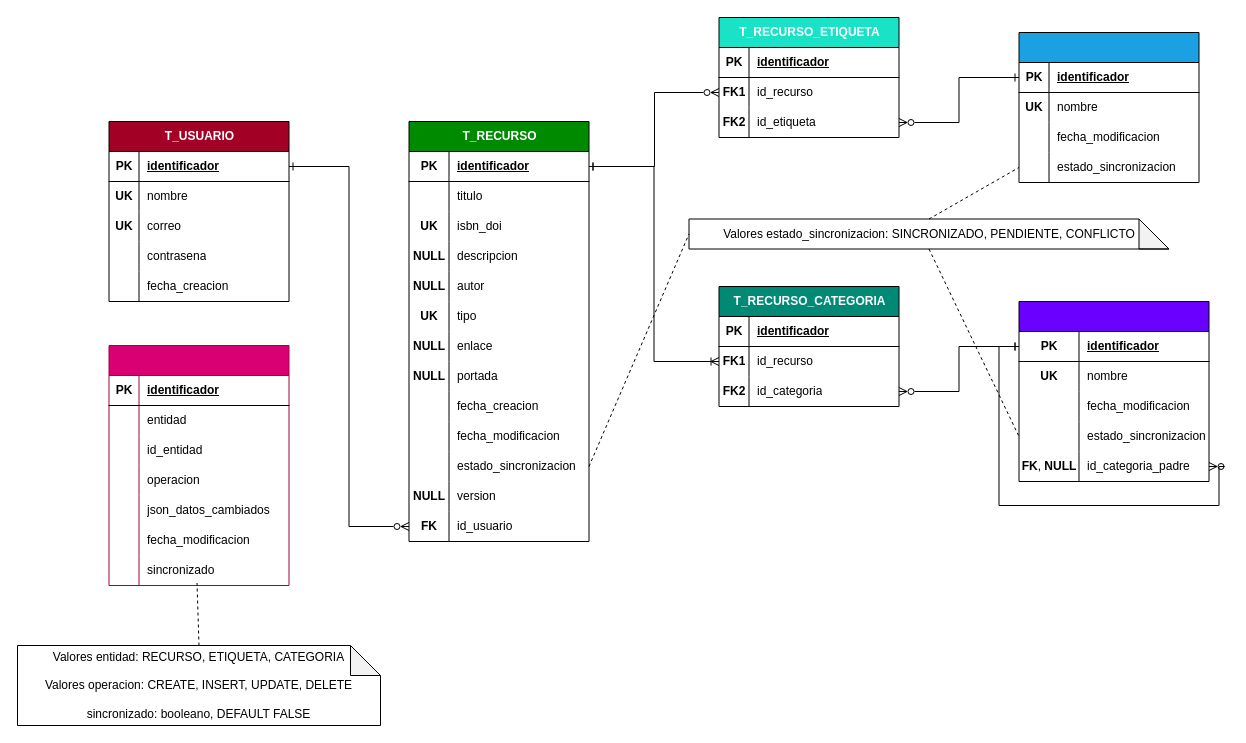
The diagram is 1246 pixels wide and 743 high, and some of its shapes have lost their labels. The shapes that lost their labels are listed below. From the top down, each one's box as (x1, y1, x2, y2) in pixels, then its label:
(1018, 32, 1199, 182): T_ETIQUETA
(1018, 300, 1209, 482): T_CATEGORIA
(108, 344, 289, 586): T_COLA
